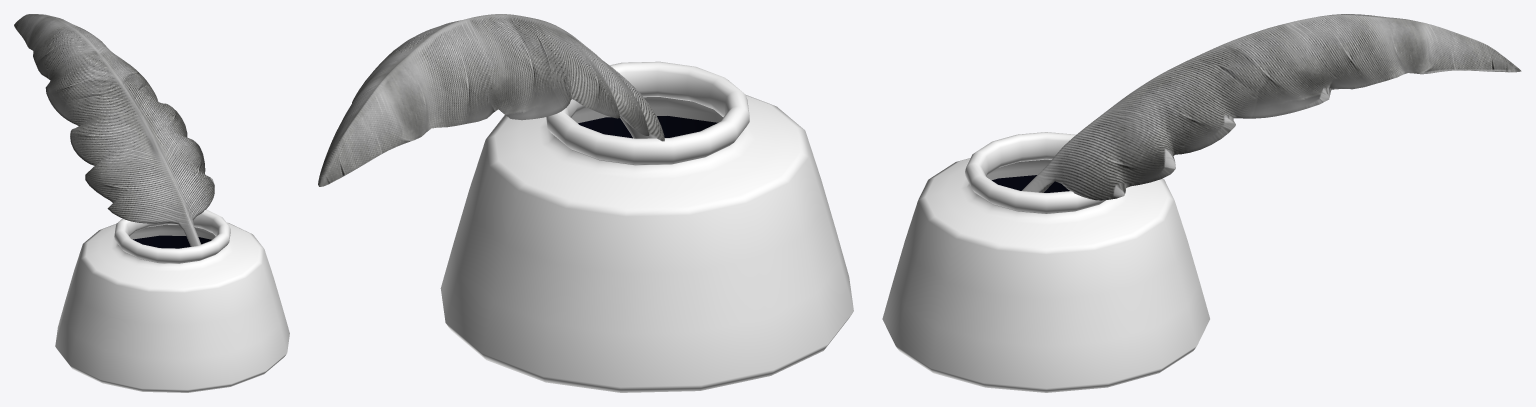
File: ink_bottle.glb
The picture shows the model from 3 angles, left to right: view 1: azimuth 30°, elevation 25°; view 2: azimuth 150°, elevation 25°; view 3: azimuth 270°, elevation 25°; orthographic projection. The views are drawn at different scales.
Parts seen in each view (by area): view 1: Object_2, Object_3, Object_4; view 2: Object_2, Object_3, Object_4; view 3: Object_2, Object_3, Object_4.
Part boxes in pixels (x1=…): Object_2: x1=55, y1=209, x2=289, y2=392; Object_3: x1=14, y1=14, x2=214, y2=246; Object_4: x1=133, y1=235, x2=211, y2=248; Object_2: x1=440, y1=61, x2=853, y2=392; Object_3: x1=318, y1=14, x2=664, y2=186; Object_4: x1=578, y1=116, x2=717, y2=138; Object_2: x1=882, y1=132, x2=1209, y2=392; Object_3: x1=1022, y1=14, x2=1521, y2=200; Object_4: x1=992, y1=175, x2=1069, y2=192.
Bounding box in the file's own units: 0.8564 × 0.9264 × 1.67.
Materials: 3 (1 with a texture image).
